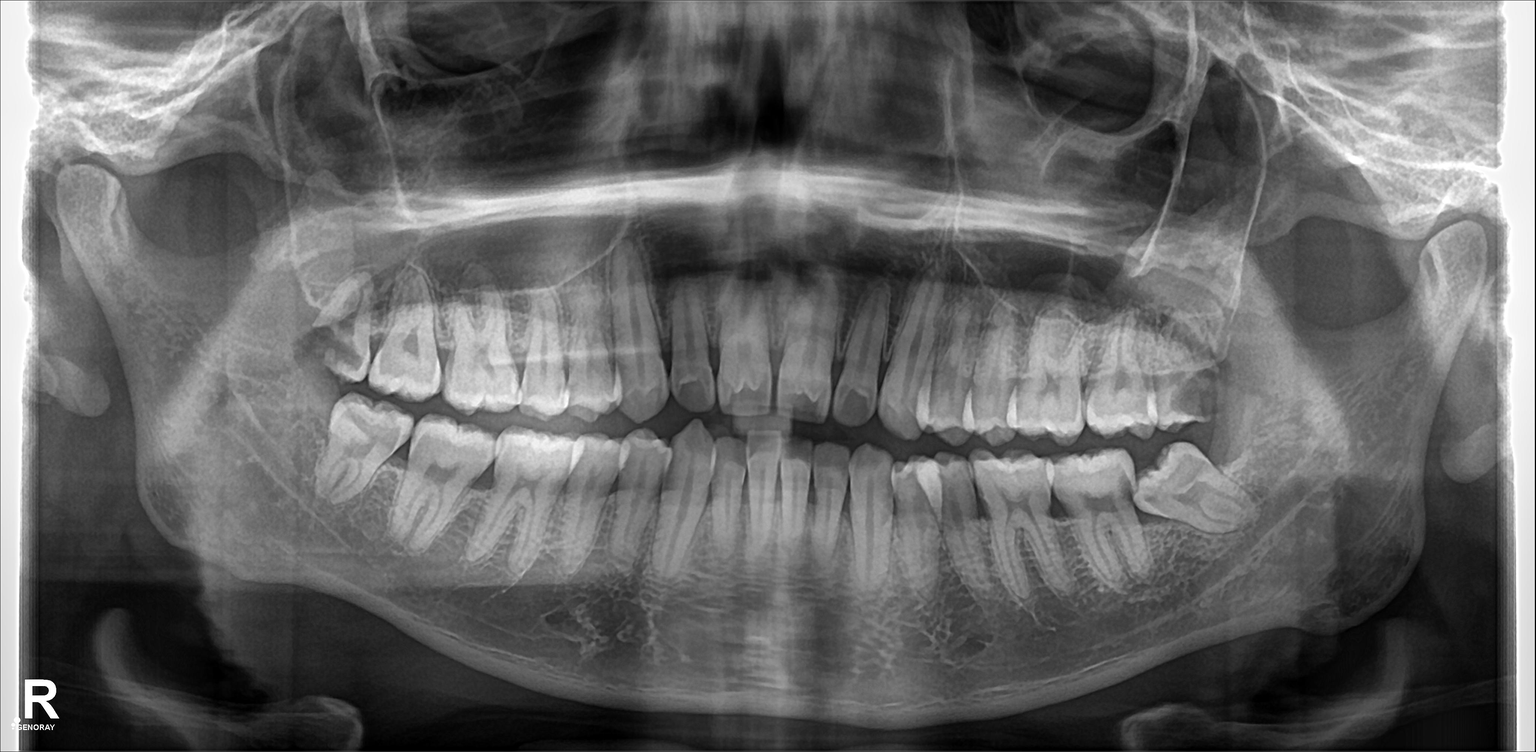Dental Caries: (1171, 370, 1222, 417), (313, 329, 365, 371), (833, 385, 872, 420)
Impacted Third Molar: (1142, 447, 1235, 535)
